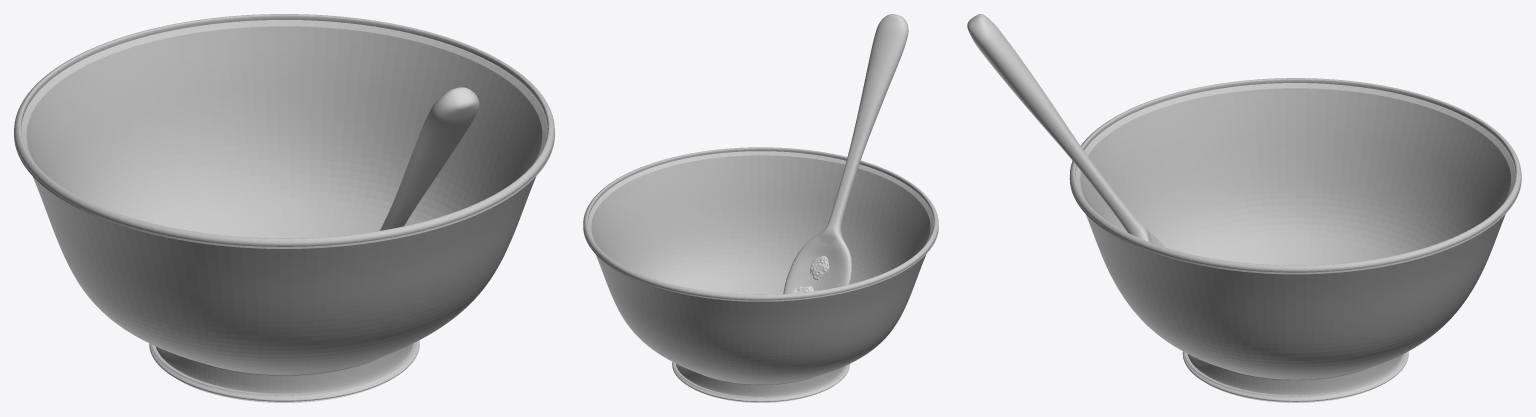
File: tazon.2000.fbx
3 renders of one model, left to right at view 1: azimuth 30°, elevation 25°; view 2: azimuth 150°, elevation 25°; view 3: azimuth 270°, elevation 25°, orthographic. The views are drawn at different scales.
Parts seen in each view (by area): view 1: Cylinder, Cube.002; view 2: Cylinder, Cube.002, Icosphere.004; view 3: Cylinder, Cube.002.
Part boxes in pixels (x1=…): Cylinder: x1=14, y1=14, x2=554, y2=402; Cube.002: x1=380, y1=87, x2=479, y2=230; Cylinder: x1=583, y1=147, x2=938, y2=402; Cube.002: x1=783, y1=14, x2=908, y2=293; Icosphere.004: x1=792, y1=255, x2=829, y2=293; Cylinder: x1=1069, y1=78, x2=1521, y2=402; Cube.002: x1=967, y1=14, x2=1164, y2=246.
Size of the model in its own units: 409 by 334 by 502.
